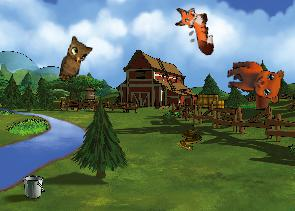bear: (225, 61, 284, 103)
fox: (172, 2, 216, 59)
owl: (58, 35, 94, 86)
